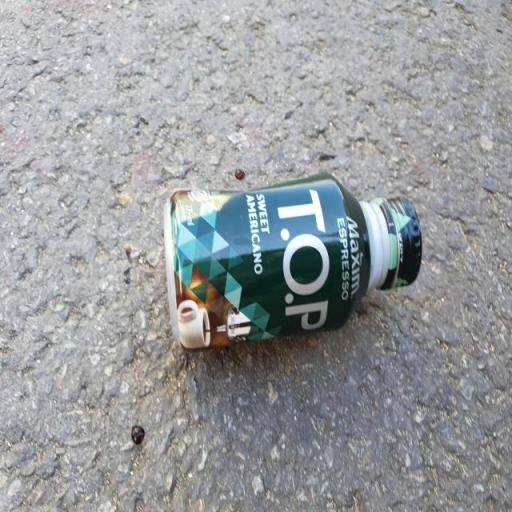metal: (87, 89, 458, 393)
